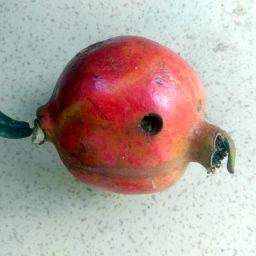pomegranate: (0, 35, 237, 195)
